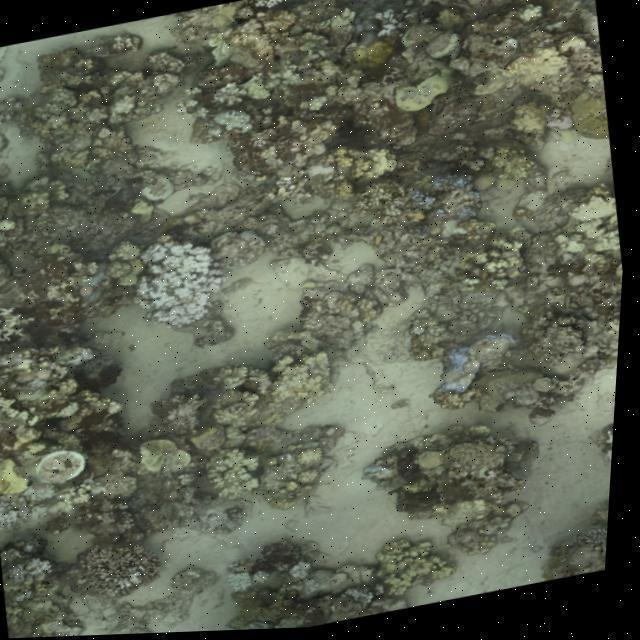Bleached Coral: (117, 224, 231, 342), (207, 101, 264, 146), (206, 74, 259, 108)
